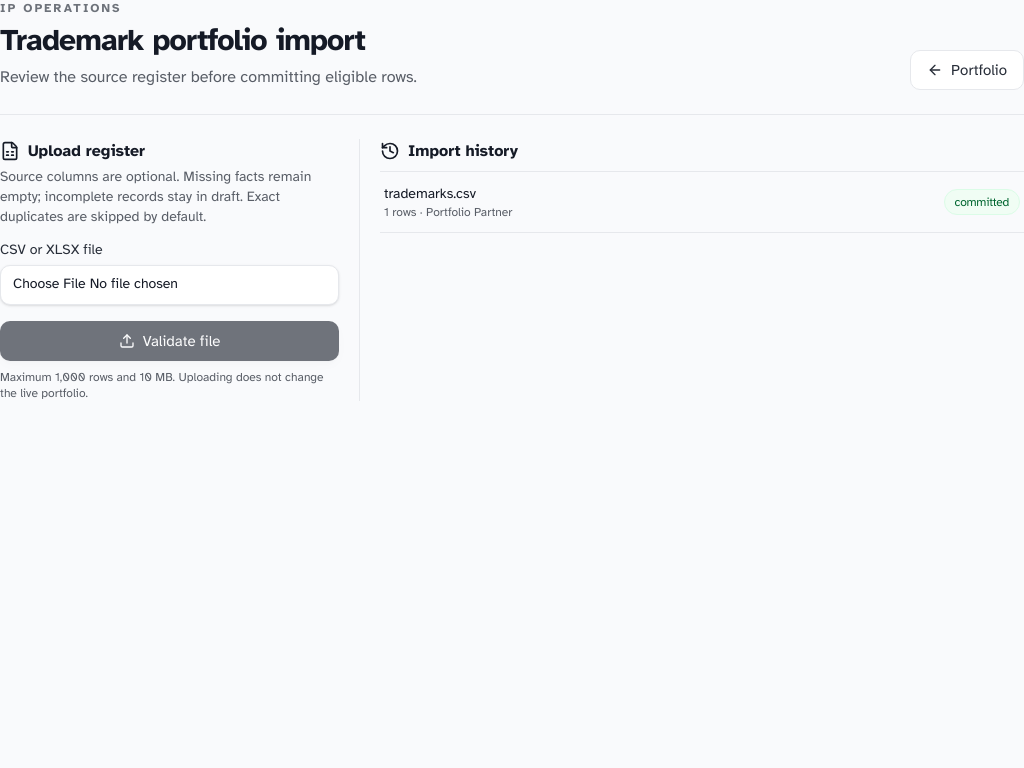
Test case: IpPortfolioImportsPage › corrects the current canonical source date to 2029-04-30 without rewriting history
The width and height of the screenshot is (1024, 768).
Click the button "trademarks.csv 1 rows · Portfolio Partner committed". click: (430,194)
box: x1=380 y1=172 x2=1023 y2=232
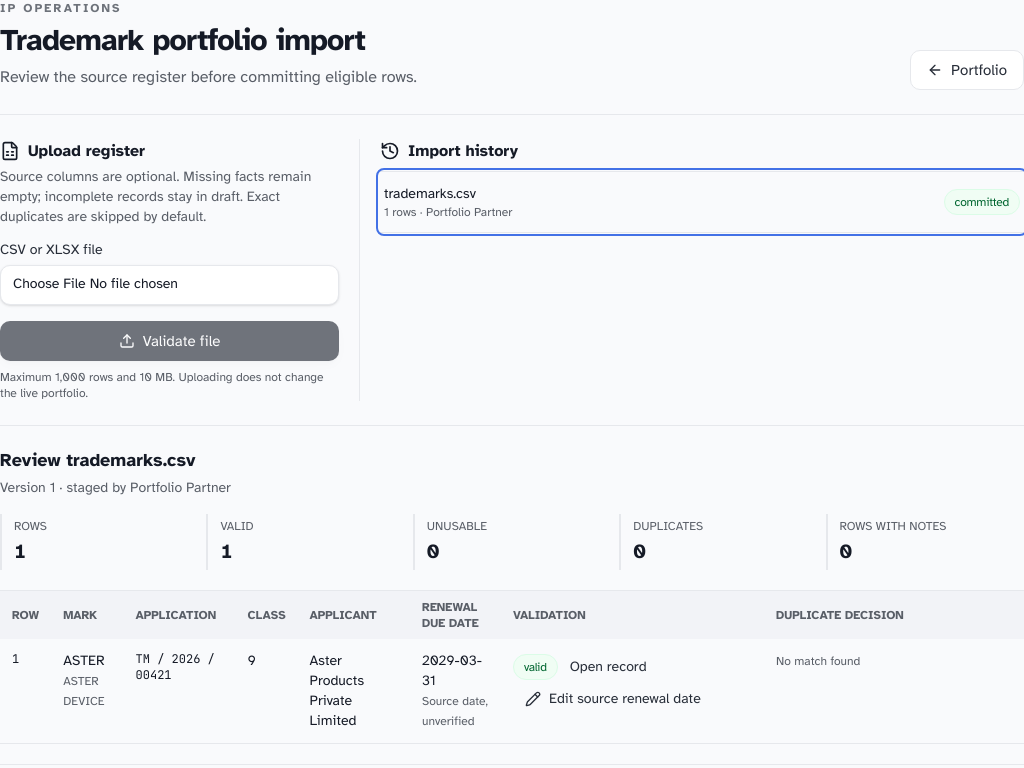
Click the button "Edit source renewal date". click: (613,699)
box: x1=513 y1=683 x2=713 y2=715
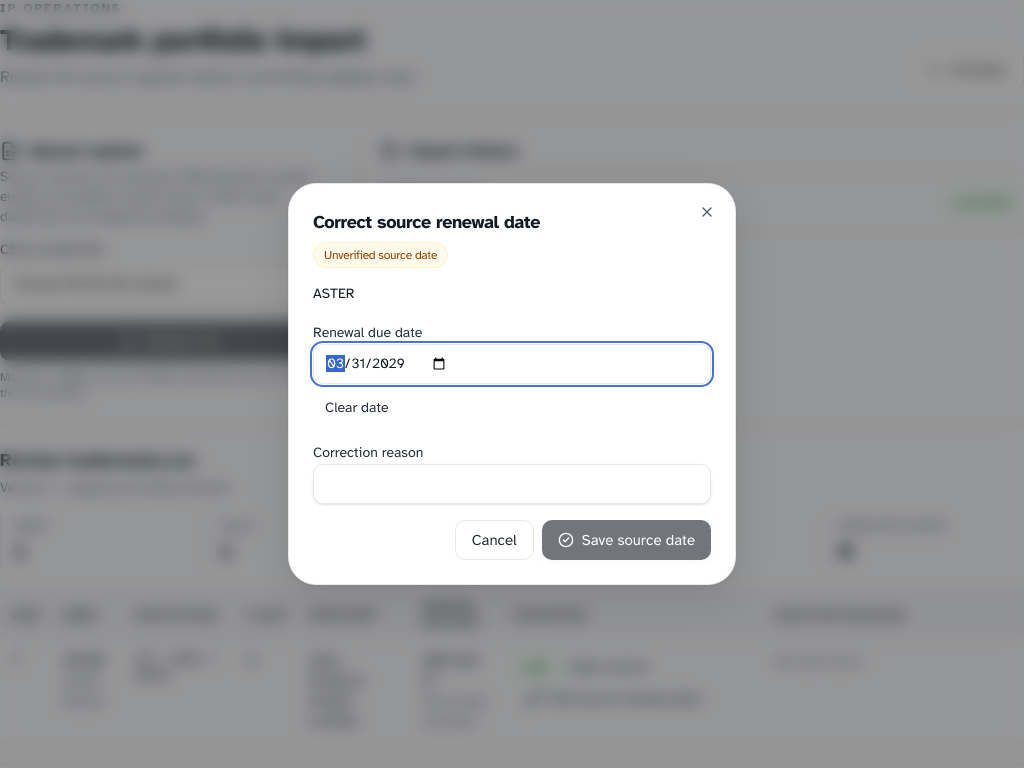
Now the dialog "Correct source renewal date" is shown, box x1=288 y1=183 x2=736 y2=585
Now the date field labelled "Renewal due date" holds "2029-03-31"
Type "2029-04-30" into the date field labelled "Renewal due date". click: (512,364)
box: x1=313 y1=344 x2=711 y2=384
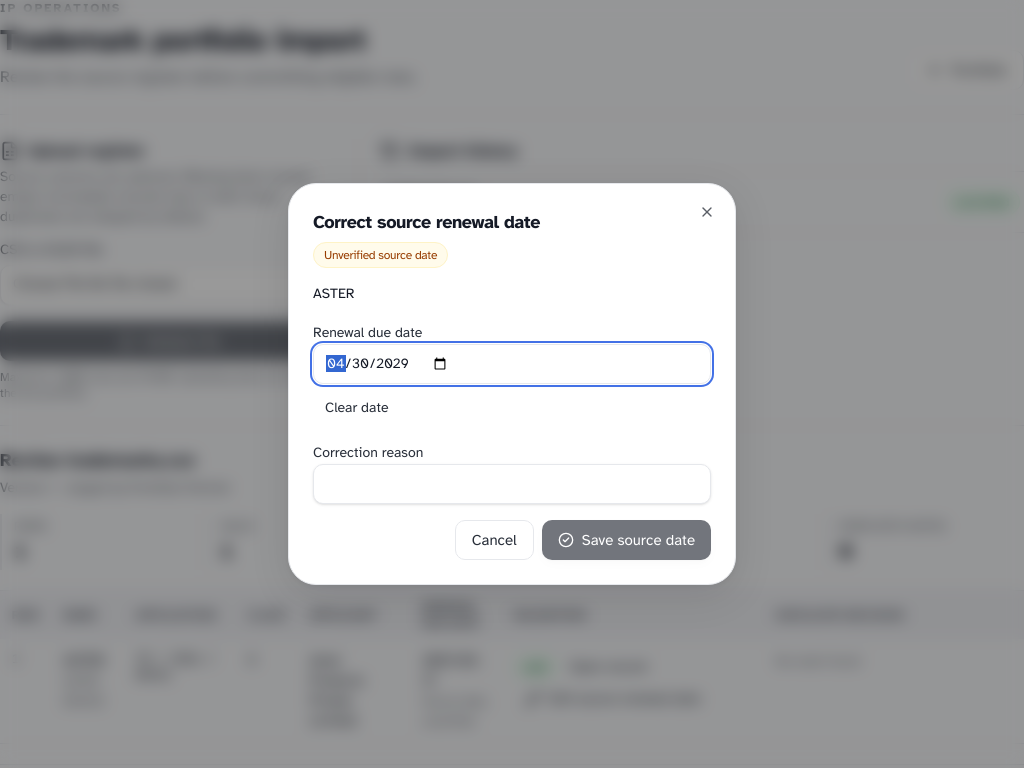
Now the button "Save source date" is disabled, box x1=542 y1=520 x2=711 y2=560
Type "Source date corrected" into the field labelled "Correction reason". click: (512,484)
box: x1=313 y1=464 x2=711 y2=504
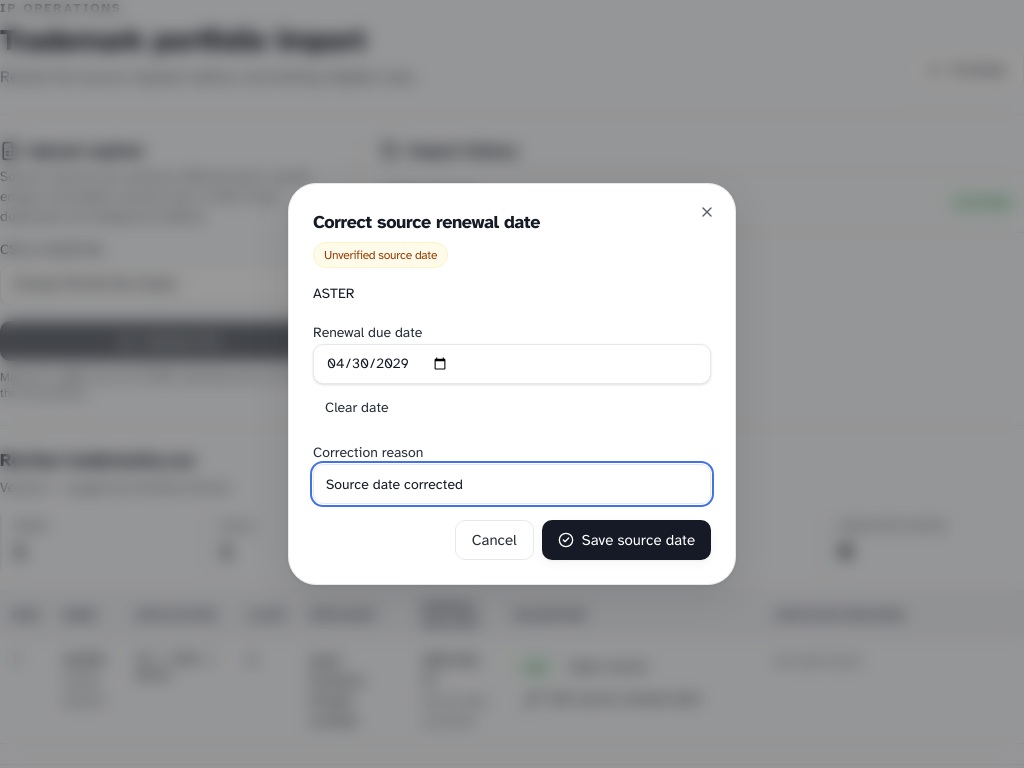
Click the button "Save source date". click: (626,540)
box: x1=542 y1=520 x2=711 y2=560
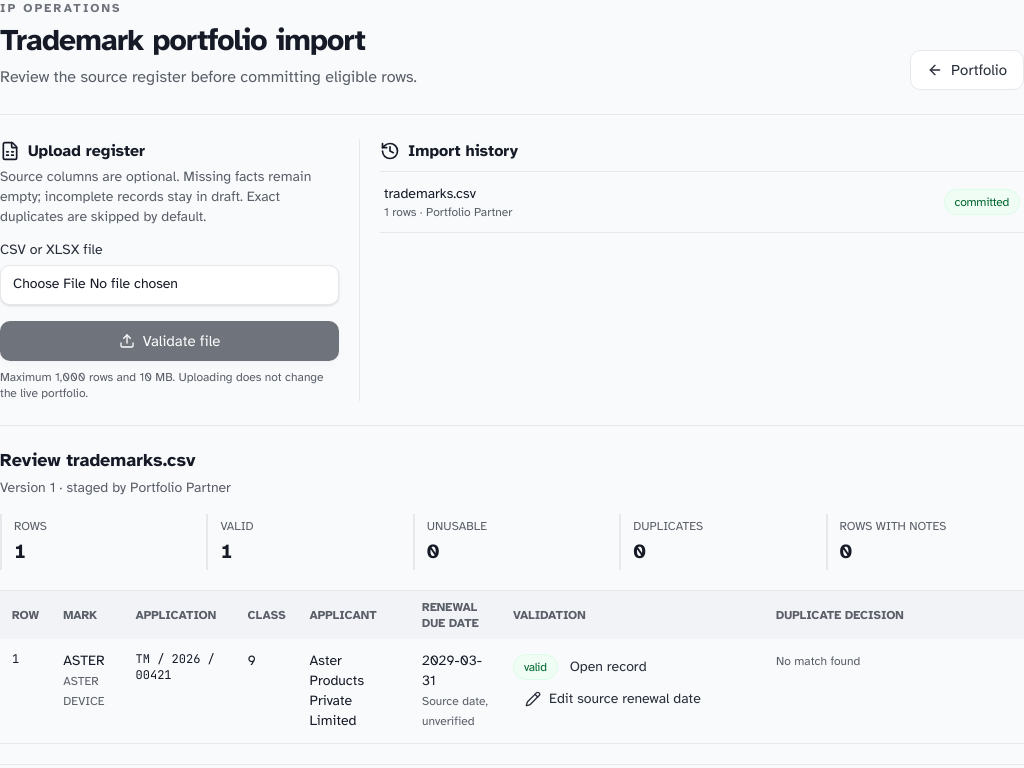
Now the text "2029-03-31" is shown, box x1=422 y1=651 x2=489 y2=691
Now the dialog is gone
